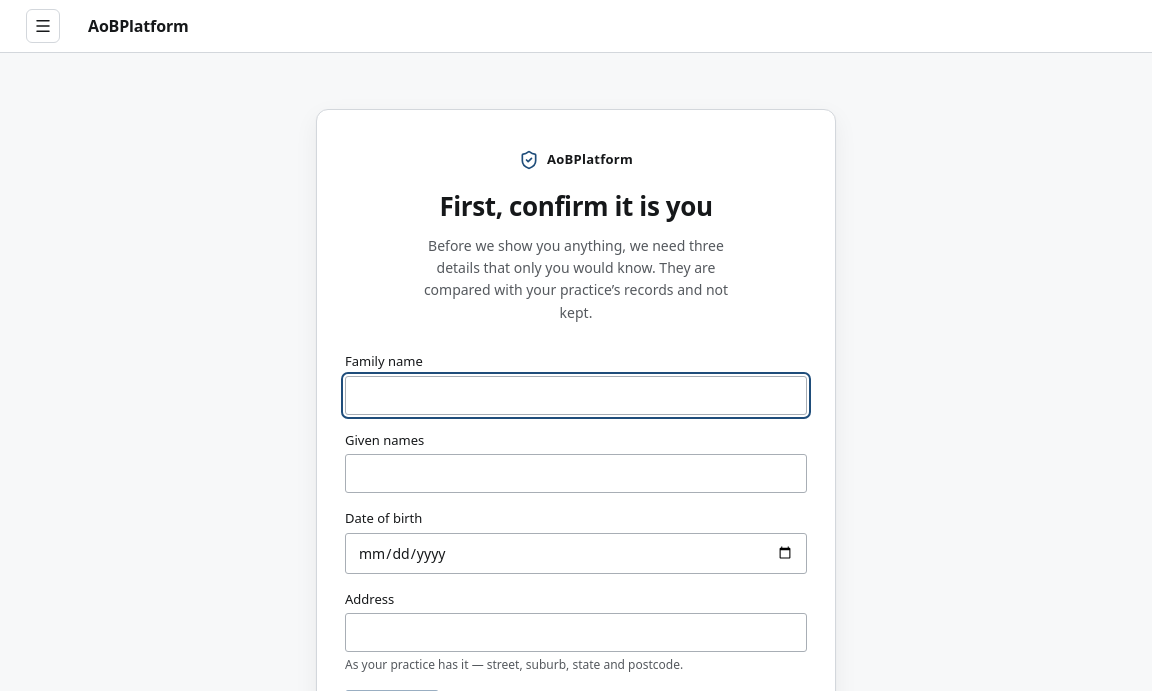
signature_screen_names_who_is_signing › the remote link names the patient before anything can be approved
Type "Fictional" into the field with test id "agree-family" at (576, 395), box left=345, top=376, right=807, bottom=415
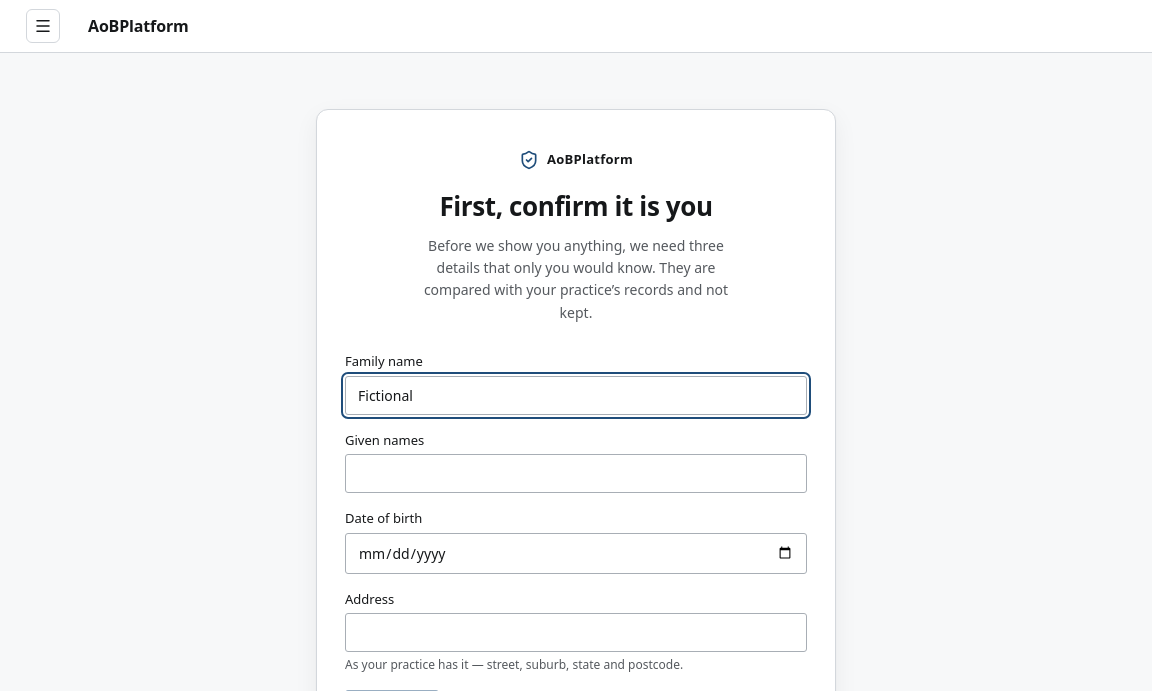
Type "Alex" into the field with test id "agree-given" at (576, 474), box left=345, top=454, right=807, bottom=493
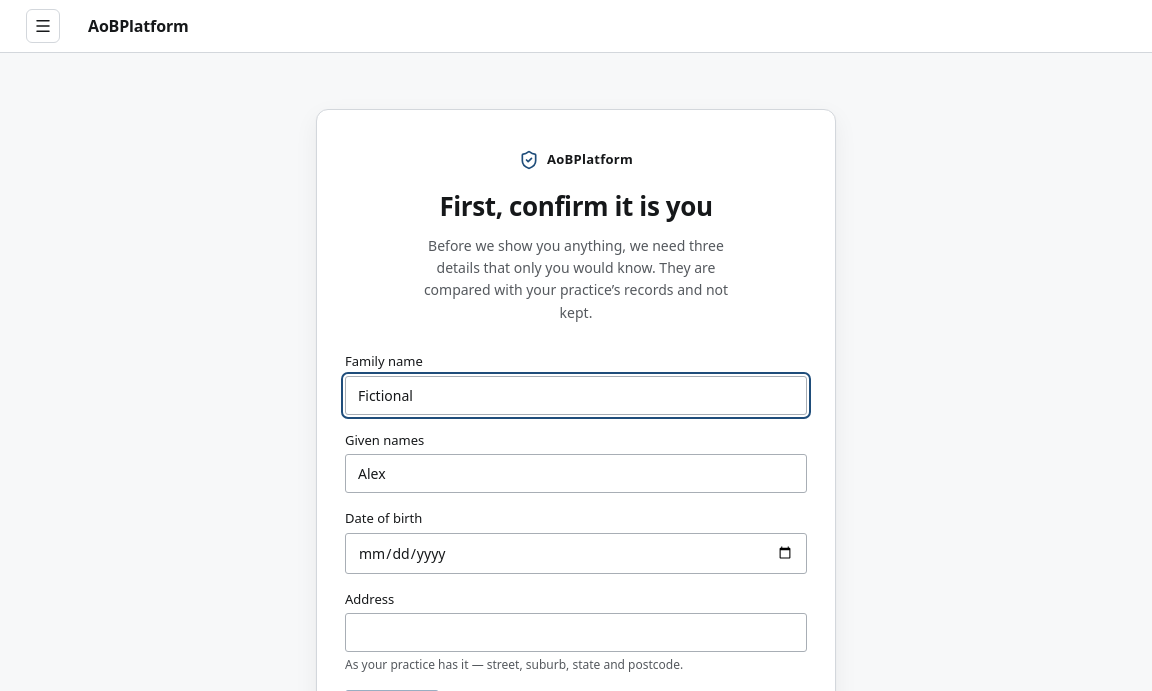
Type "1988-03-09" into the date field with test id "agree-dob" at (576, 553), box left=345, top=533, right=807, bottom=574
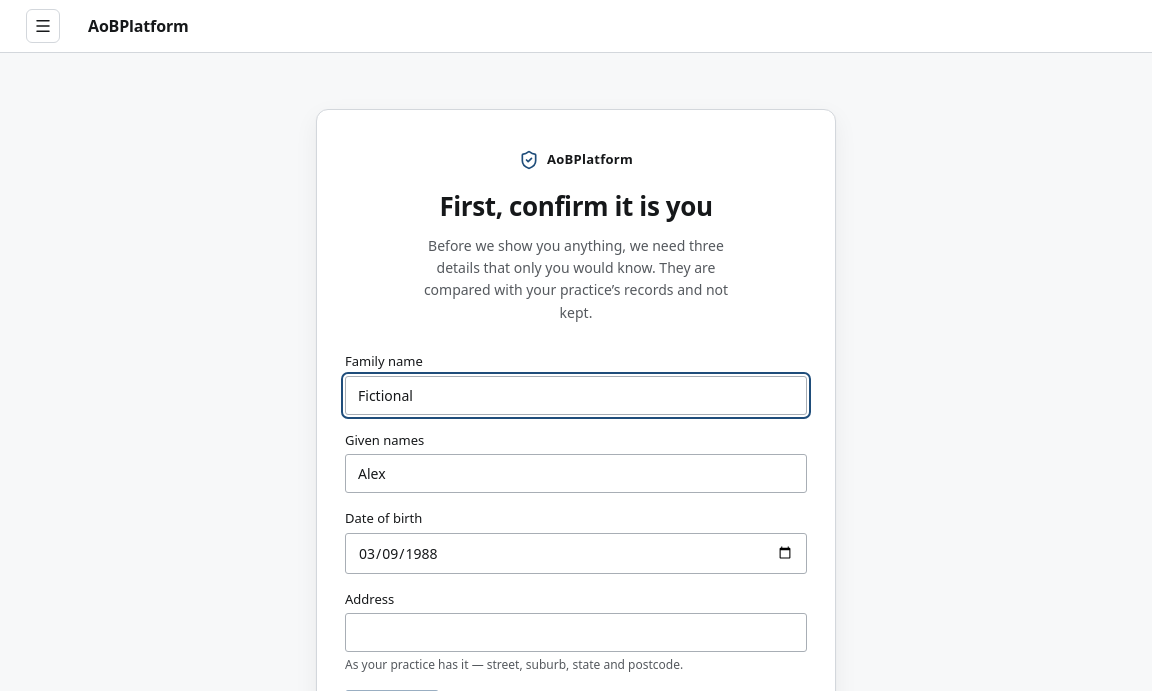
Type "7 Sample Road, Sampletown NSW 2000" into the field with test id "agree-address" at (576, 633), box left=345, top=613, right=807, bottom=652
(page scrolled)
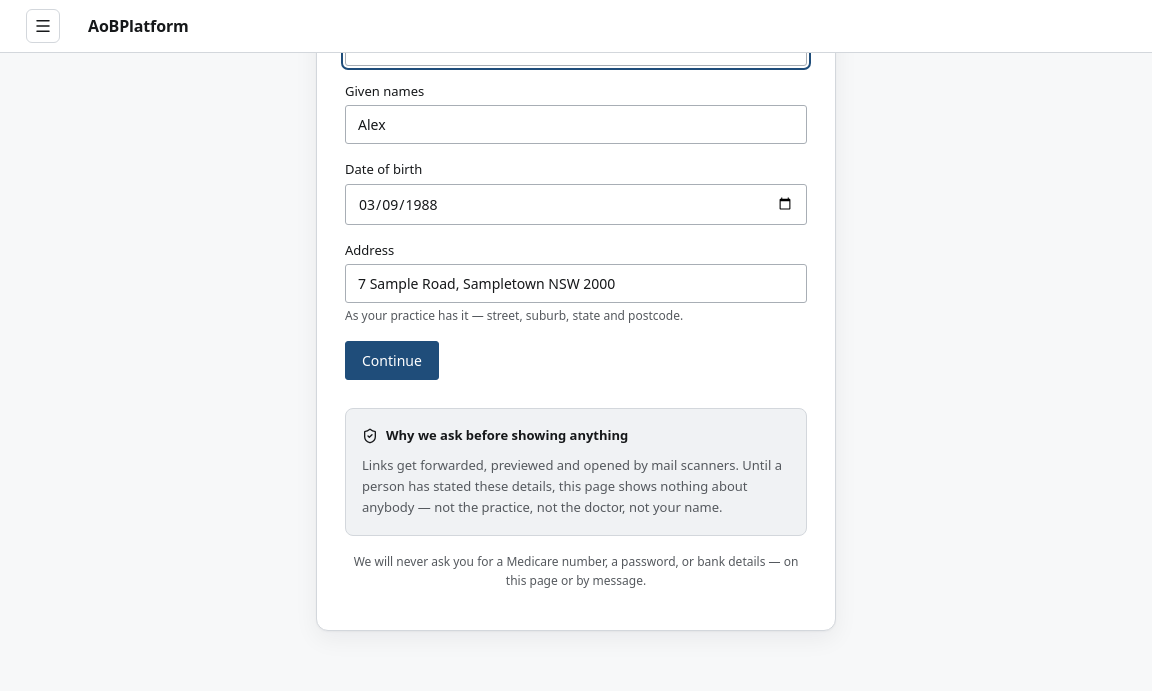
Click the button with test id "agree-verify" at (392, 361), box left=345, top=341, right=439, bottom=380
(page scrolled)
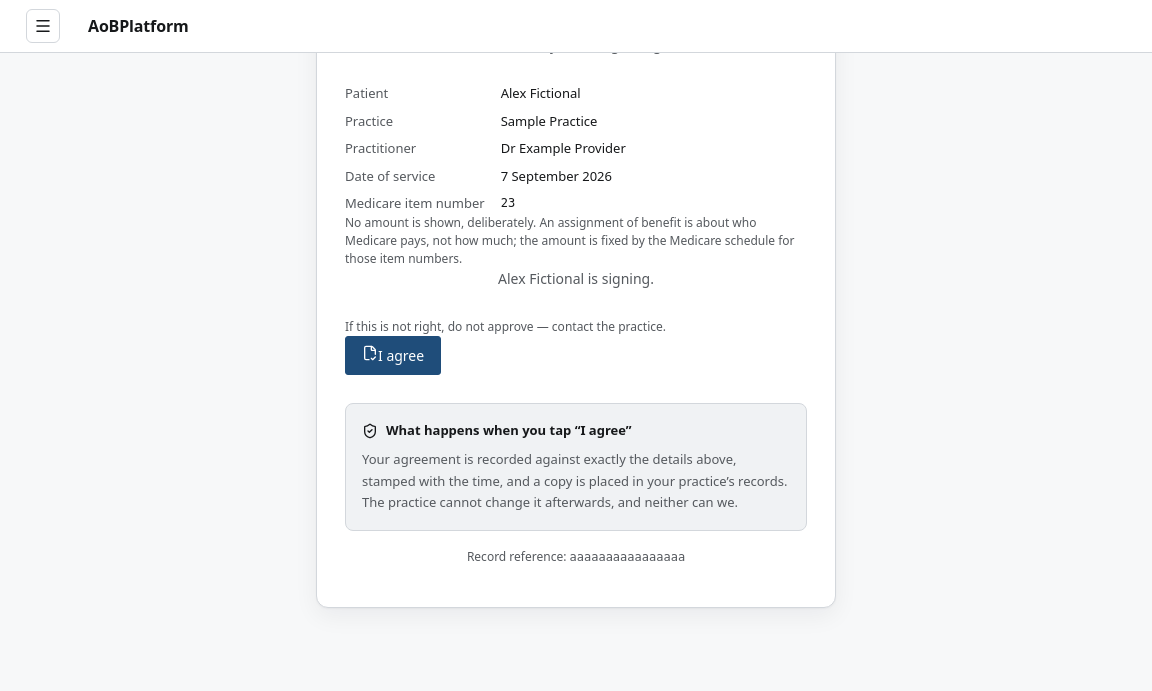
Expected: the element with test id "agree-particulars" is shown, left=345, top=84, right=626, bottom=212
Expected: the text with test id "agree-who" reads "Alex Fictional is signing.", left=498, top=269, right=654, bottom=288
Expected: the text with test id "agree-who-wrong" reads "If this is not right, do not approve — contact the practice.", left=345, top=318, right=666, bottom=335
